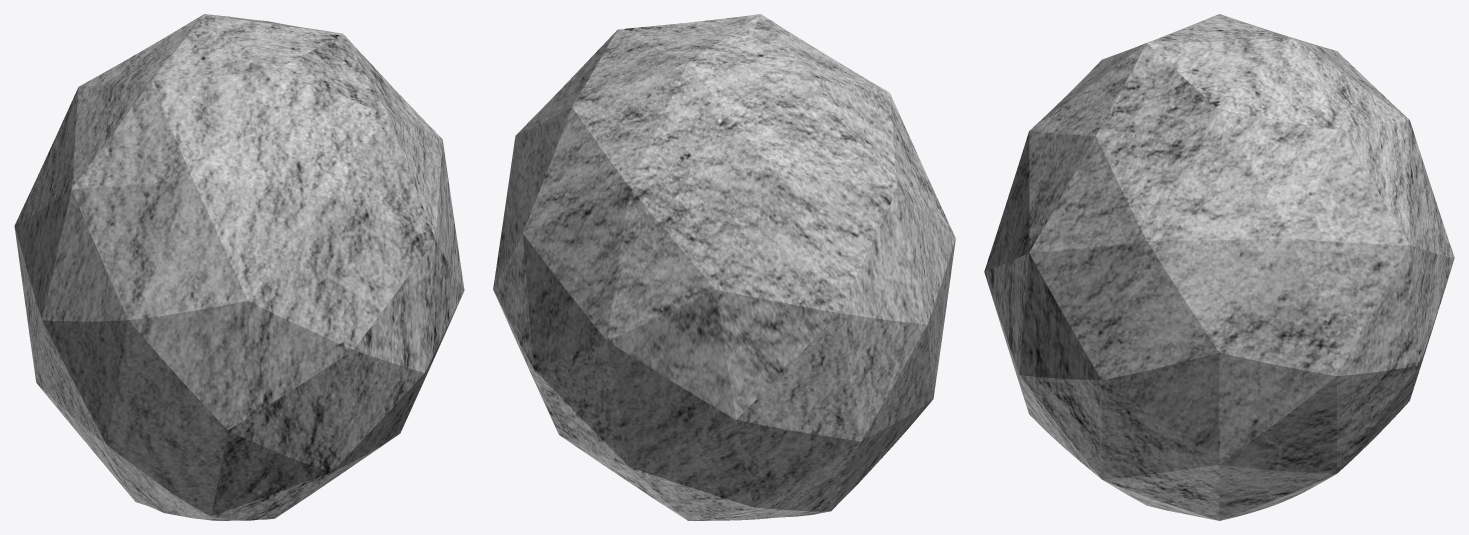
File: Debris-01.gltf
The picture shows the model from 3 angles, left to right: view 1: azimuth 30°, elevation 25°; view 2: azimuth 150°, elevation 25°; view 3: azimuth 270°, elevation 25°; orthographic projection. The views are drawn at different scales.
Visible parts, largest first — view 1: Debris; view 2: Debris; view 3: Debris.
Part boxes in pixels (<box>): Debris: <box>14,14,464,520</box>; Debris: <box>493,14,955,520</box>; Debris: <box>984,14,1454,520</box>.
Bounding box in the file's own units: 0.1129 × 0.1239 × 0.1129.
1 material, 1 textured.
